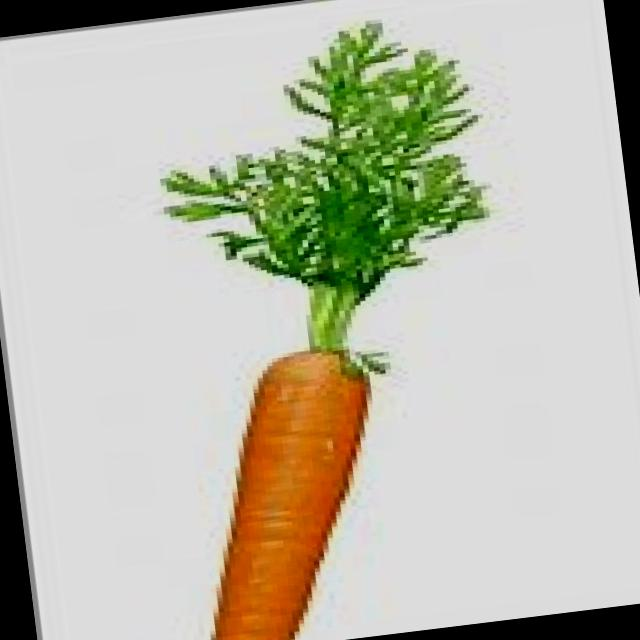carrot: (211, 351, 369, 640)
